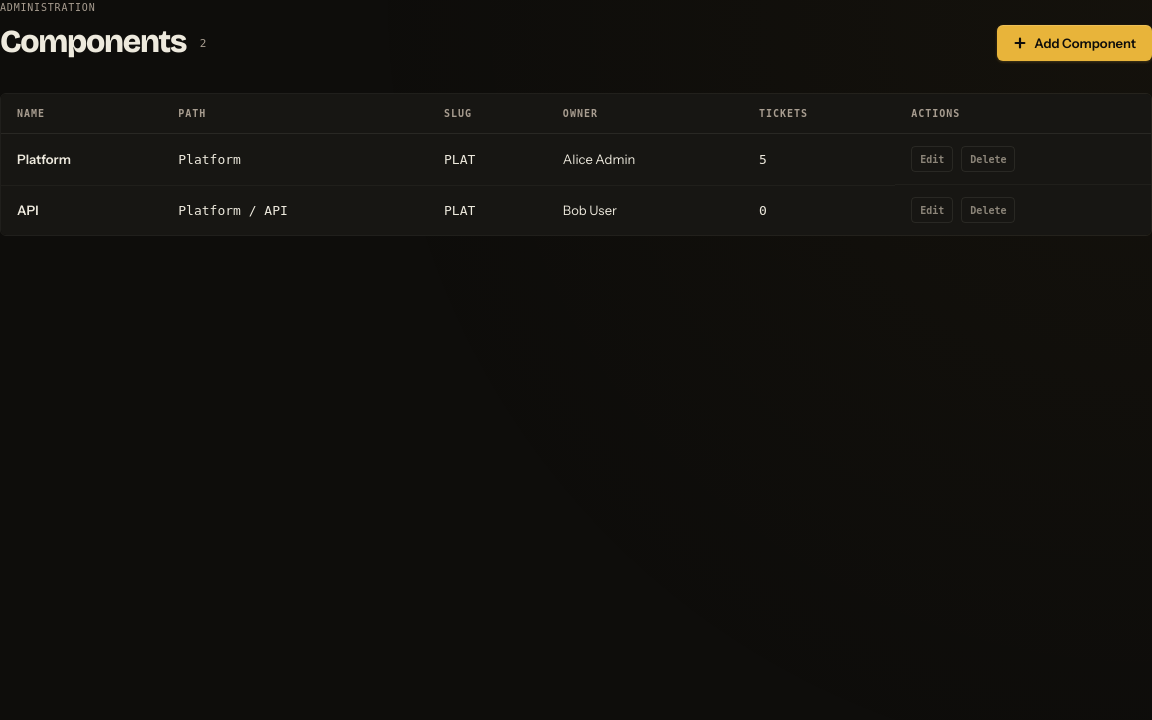
ComponentManagement › opens create component modal
The image size is (1152, 720).
Expected: the text "Platform / API" is shown, top-left (162, 185), bottom-right (428, 235)
Click the button "Add Component": (1075, 43) top-left (997, 25), bottom-right (1151, 61)
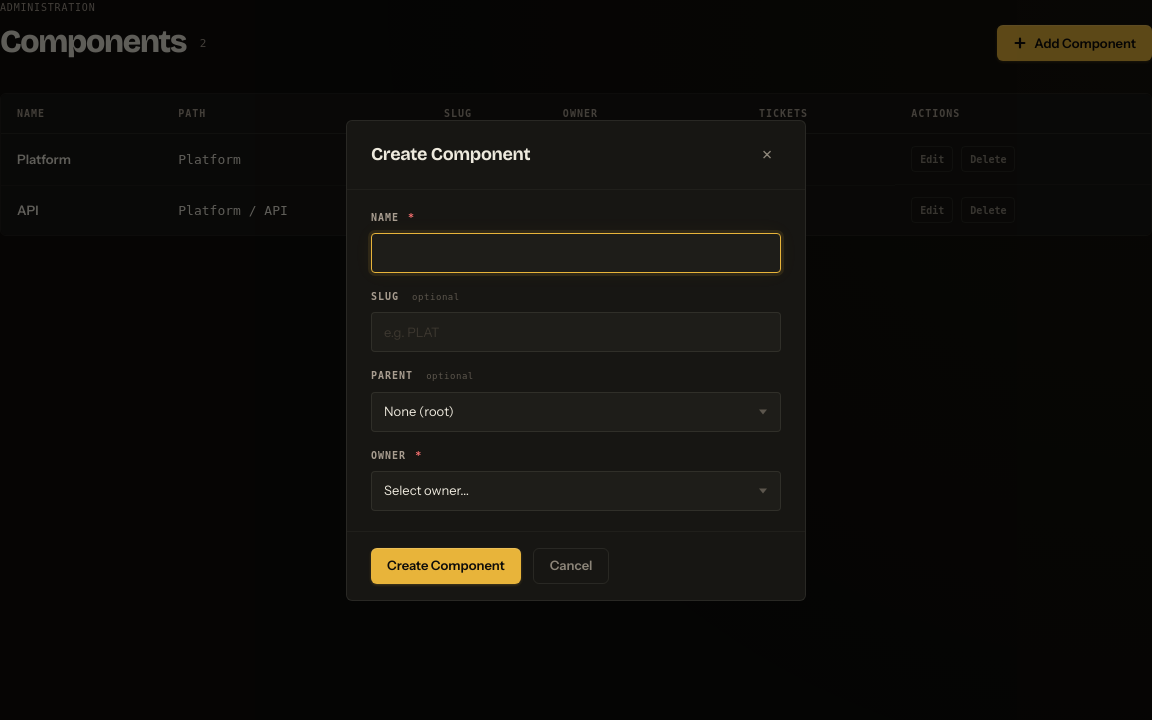
Expected: the heading "Create Component" is shown, top-left (371, 143), bottom-right (530, 166)
